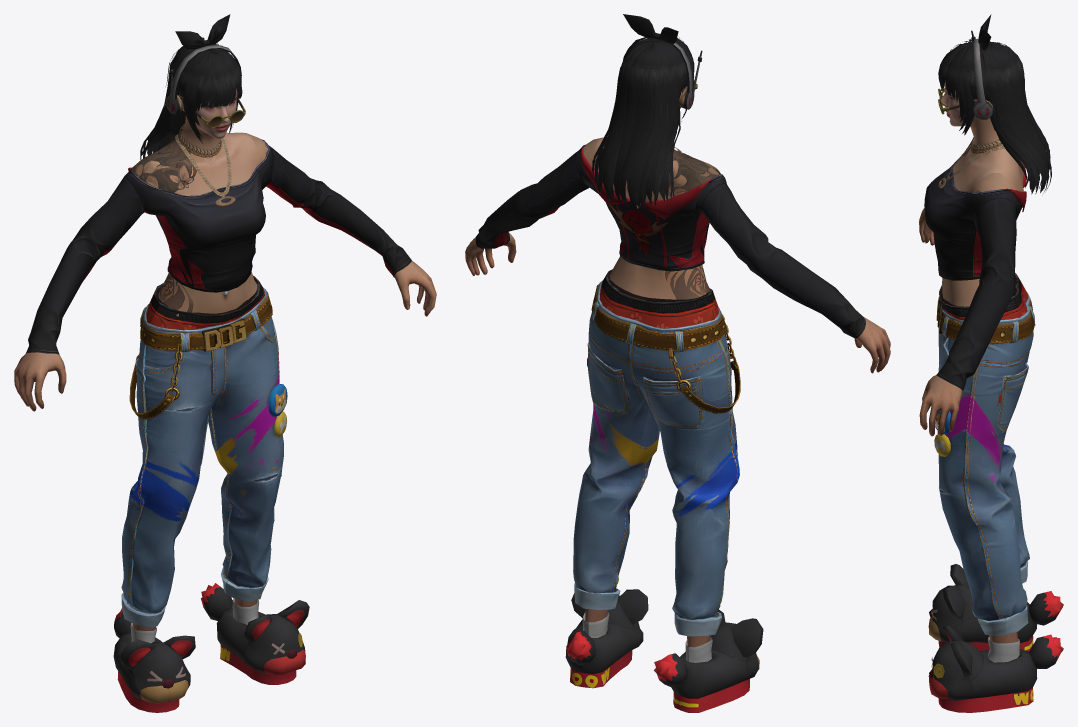
Rendered from marou wife.glb.
3 renders of one model, left to right at view 1: azimuth 30°, elevation 25°; view 2: azimuth 150°, elevation 25°; view 3: azimuth 270°, elevation 25°, orthographic.
Visible parts, largest first — view 1: marou wife; view 2: marou wife; view 3: marou wife.
Part boxes in pixels (x1=…): marou wife: x1=14, y1=14, x2=436, y2=712; marou wife: x1=465, y1=14, x2=890, y2=712; marou wife: x1=919, y1=14, x2=1063, y2=712.
Size of the model in its own units: 0.6002 by 0.9162 by 0.1846.
11 materials, 11 textured.
